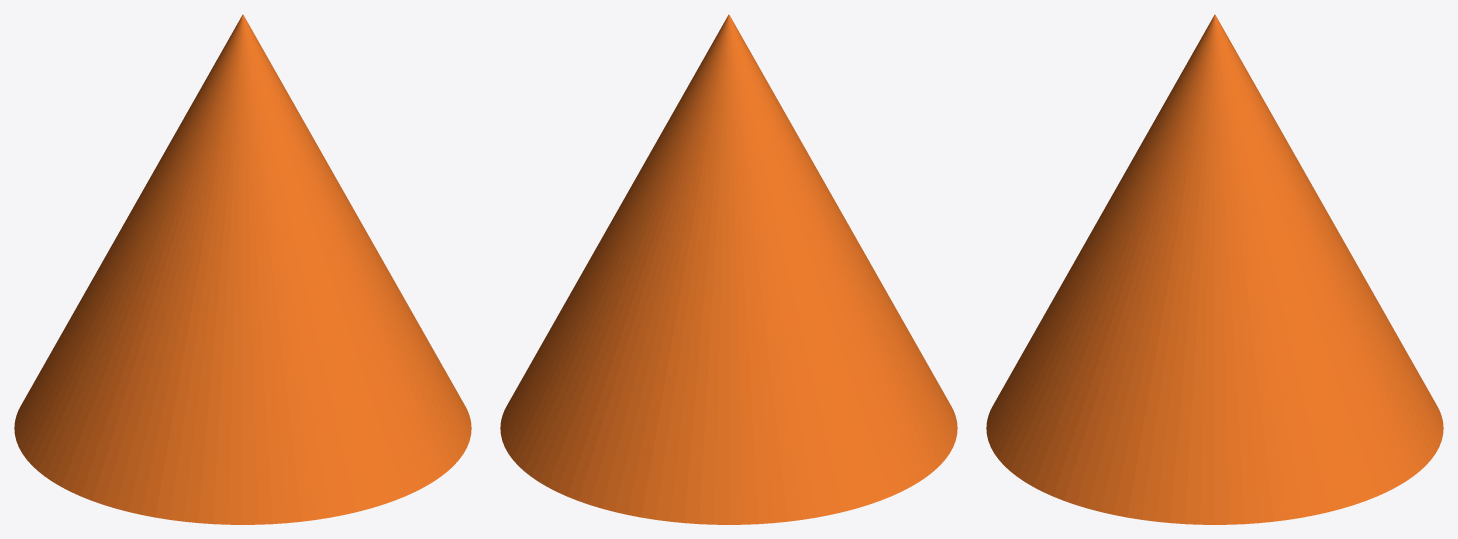
3 views of the same model, side by side, from view 1: azimuth 30°, elevation 25°; view 2: azimuth 150°, elevation 25°; view 3: azimuth 270°, elevation 25° (orthographic).
Size of the model in its own units: 0.04 by 0.04 by 0.04.
